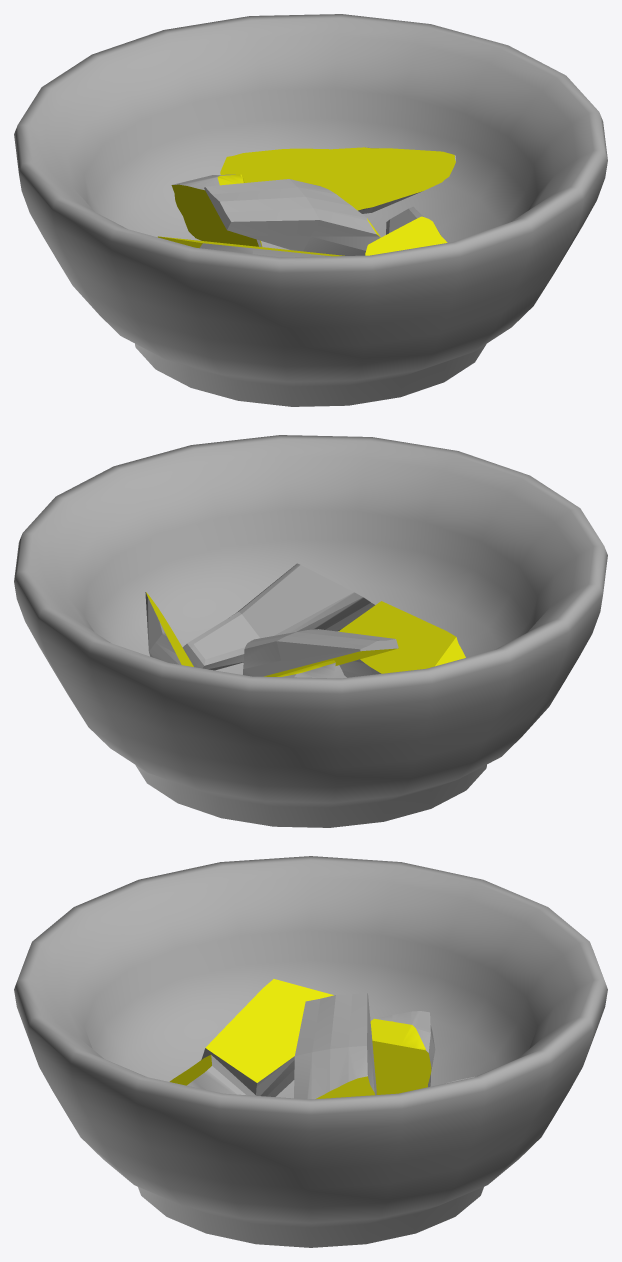
File: CutFingerInBowl.fbx
3 renders of one model, top to bottom at view 1: azimuth 30°, elevation 25°; view 2: azimuth 150°, elevation 25°; view 3: azimuth 270°, elevation 25°, orthographic.
Parts seen in each view (by area): view 1: cuenco, shard1, shard5, shard4, shard3, shard2; view 2: cuenco, shard3, shard2, shard5, shard1, shard4; view 3: cuenco, shard5, shard2, shard4, shard3.
Part boxes in pixels (x1,y1,x2,y2): cuenco: [14, 14, 607, 406]; shard1: [220, 147, 455, 213]; shard5: [204, 179, 380, 255]; shard4: [171, 174, 262, 246]; shard3: [365, 206, 447, 255]; shard2: [158, 236, 344, 257]; cuenco: [14, 435, 607, 827]; shard3: [182, 563, 374, 670]; shard2: [338, 601, 465, 677]; shard5: [243, 629, 398, 676]; shard1: [145, 592, 193, 666]; shard4: [276, 660, 335, 678]; cuenco: [14, 856, 607, 1247]; shard5: [294, 992, 376, 1099]; shard2: [201, 979, 333, 1096]; shard4: [370, 1011, 435, 1094]; shard3: [169, 1055, 255, 1095].
Size of the model in its own units: 44.38 by 16.08 by 44.38.
